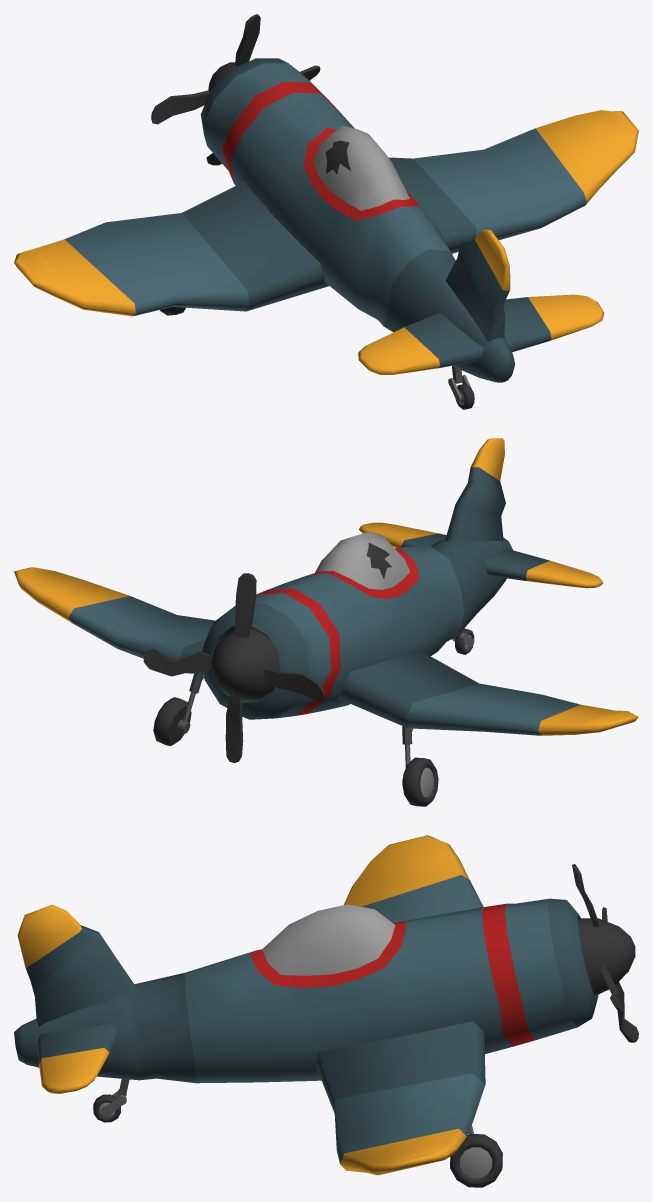
Rendered from 21C_fighter_01.fbx.
3 renders of one model, top to bottom at view 1: azimuth 30°, elevation 25°; view 2: azimuth 150°, elevation 25°; view 3: azimuth 270°, elevation 25°, orthographic. The views are drawn at different scales.
Parts seen in each view (by area): view 1: 21C_fighter_01; view 2: 21C_fighter_01; view 3: 21C_fighter_01.
Part boxes in pixels (x1,y1,x2,y2): 21C_fighter_01: (14,14,638,409); 21C_fighter_01: (14,438,638,806); 21C_fighter_01: (14,835,638,1187).
Size of the model in its own units: 131 by 48.45 by 106.
